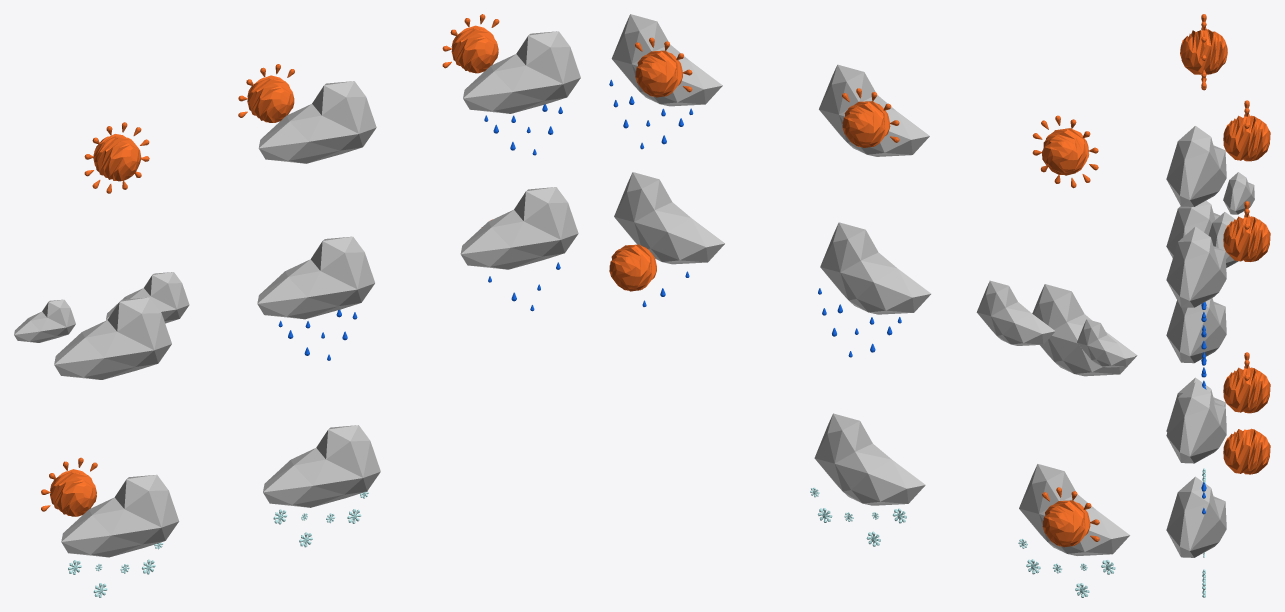
The model's file is Weather.FBX.
3 views of the same model, side by side, from view 1: azimuth 30°, elevation 25°; view 2: azimuth 150°, elevation 25°; view 3: azimuth 270°, elevation 25° (orthographic).
Parts seen in each view (by area): view 1: Cloud002, Cloud008, Cloud, Cloud005, Cloud006, Cloud001, Cloud007, Sun, Cloud003, Cloud004, Sun001, Sun002 (+1 smaller); view 2: Cloud005, Cloud007, Cloud006, Cloud, Cloud001, Cloud008, Cloud002, Cloud003, Sun, Sun004, Sun003, Sun002 (+2 smaller); view 3: Cloud001, Cloud006, Cloud, Cloud007, Cloud005, Sun003, Sun001, Sun004, Sun002, Sun, Cloud002, Cloud004 (+2 smaller).
Boxes of the visible parts, left/top/right/bottom form: Cloud002: left=54, top=297, right=171, bottom=379; Cloud008: left=61, top=474, right=179, bottom=557; Cloud: left=258, top=81, right=376, bottom=163; Cloud005: left=257, top=236, right=374, bottom=319; Cloud006: left=460, top=187, right=578, bottom=269; Cloud001: left=463, top=31, right=580, bottom=113; Cloud007: left=263, top=425, right=380, bottom=507; Sun: left=93, top=134, right=141, bottom=181; Cloud003: left=106, top=272, right=189, bottom=323; Cloud004: left=14, top=299, right=75, bottom=342; Sun001: left=247, top=75, right=294, bottom=122; Sun002: left=451, top=25, right=498, bottom=73; Cloud005: left=820, top=222, right=931, bottom=314; Cloud007: left=814, top=413, right=925, bottom=505; Cloud006: left=614, top=172, right=724, bottom=264; Cloud: left=819, top=64, right=929, bottom=156; Cloud001: left=611, top=14, right=722, bottom=106; Cloud008: left=1019, top=464, right=1129, bottom=555; Cloud002: left=1032, top=284, right=1137, bottom=376; Cloud003: left=976, top=280, right=1055, bottom=345; Sun: left=1041, top=128, right=1089, bottom=175; Sun004: left=1042, top=500, right=1090, bottom=547; Sun003: left=609, top=244, right=656, bottom=291; Sun002: left=635, top=50, right=682, bottom=97; Cloud001: left=1166, top=226, right=1226, bottom=307; Cloud006: left=1166, top=382, right=1226, bottom=463; Cloud: left=1166, top=126, right=1226, bottom=206; Cloud007: left=1166, top=476, right=1226, bottom=557; Cloud005: left=1166, top=298, right=1226, bottom=363; Sun003: left=1223, top=428, right=1270, bottom=474; Sun001: left=1223, top=115, right=1270, bottom=161; Sun004: left=1223, top=367, right=1270, bottom=413; Sun002: left=1223, top=216, right=1270, bottom=261; Sun: left=1180, top=29, right=1227, bottom=74; Cloud002: left=1166, top=200, right=1220, bottom=258; Cloud004: left=1223, top=172, right=1254, bottom=214.
Size of the model in its own units: 180 by 150 by 29.8.
